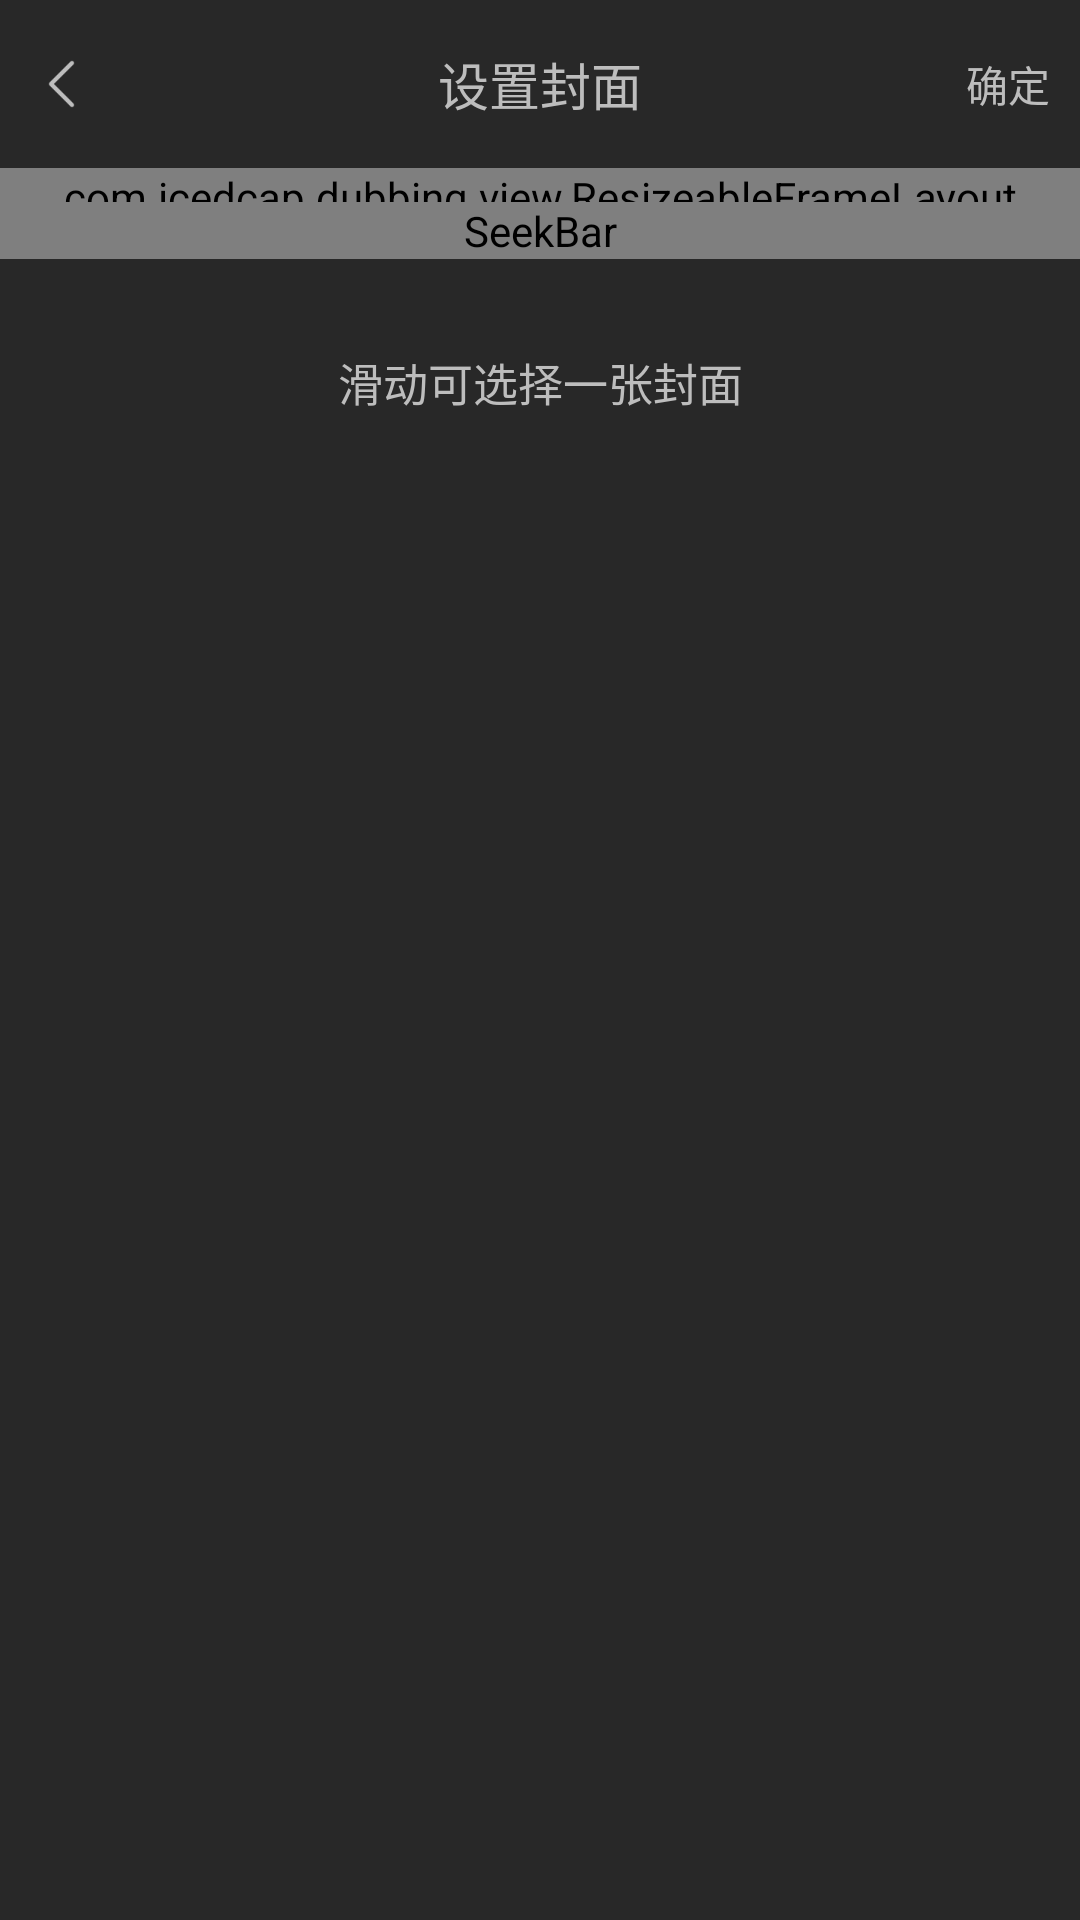

Named icons in this screenshot (1080px x 1920px) and their centers, [x,y]:
dubbing cancel: [61,84]
